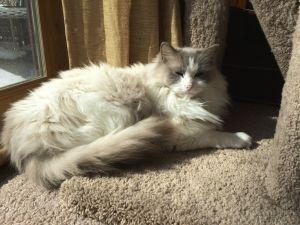ragdoll: (152, 37, 225, 110)
